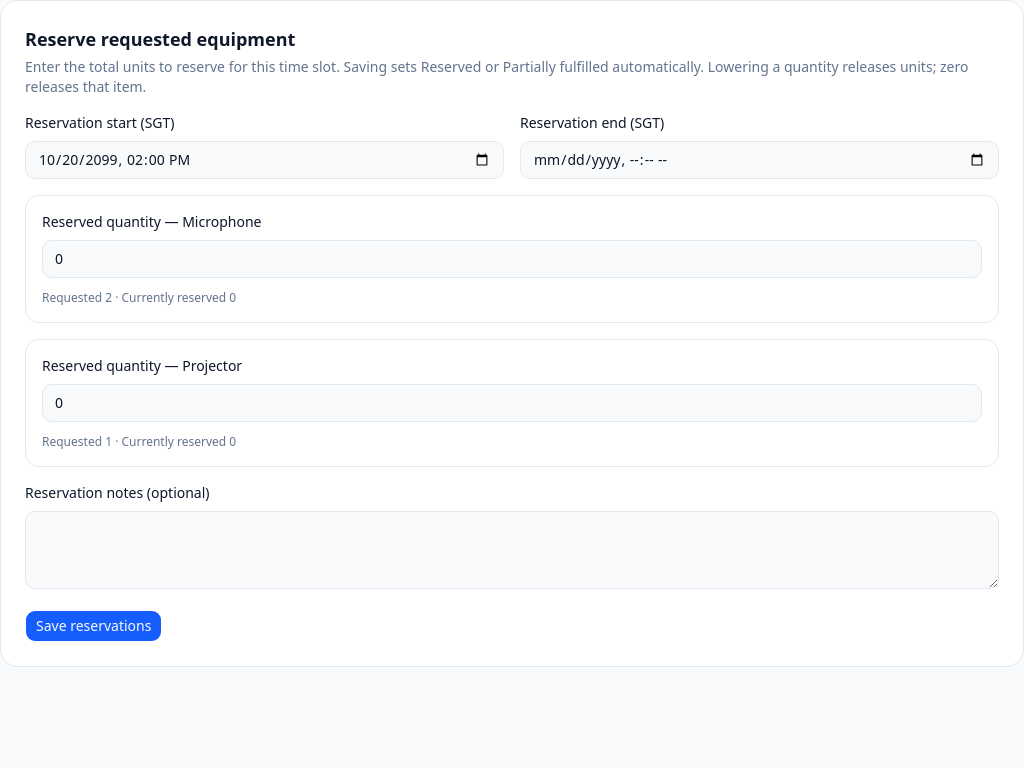
save failure preserves the reservation and correctly requires reload: {"status":400,"fields":{}}
Step 1. Type "2099-10-20T15:00" into the field labelled "Reservation end (SGT)" → (760, 160), box [520,141,999,179]
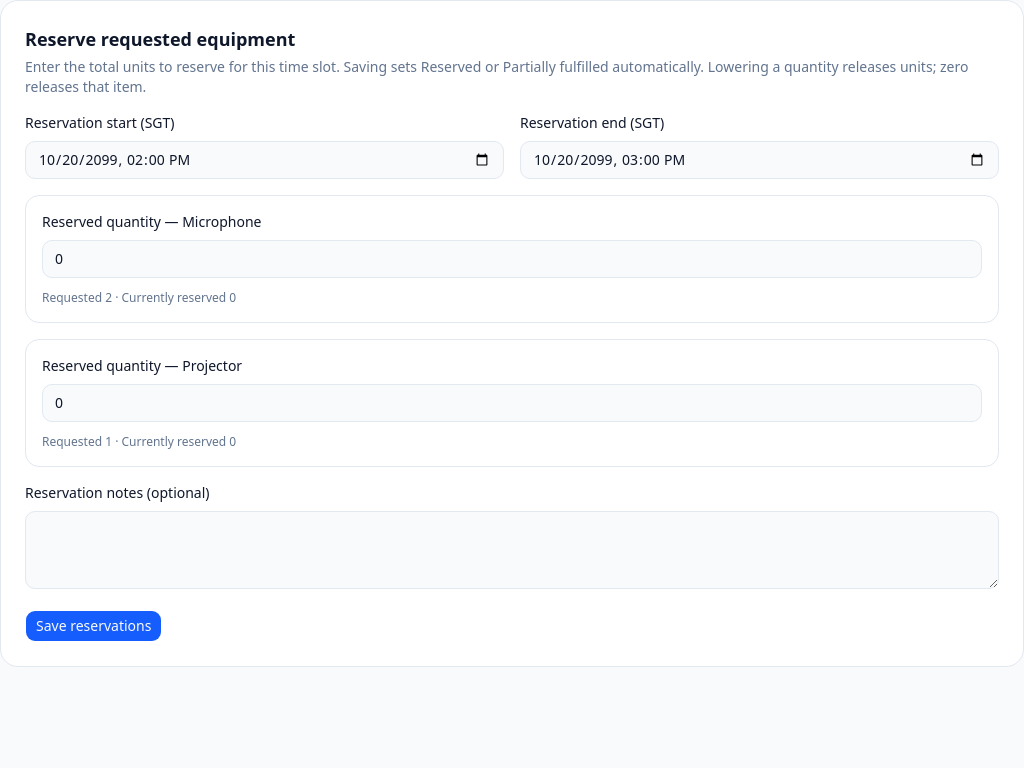
Step 2. Submit the form "Reserve requested equipment"
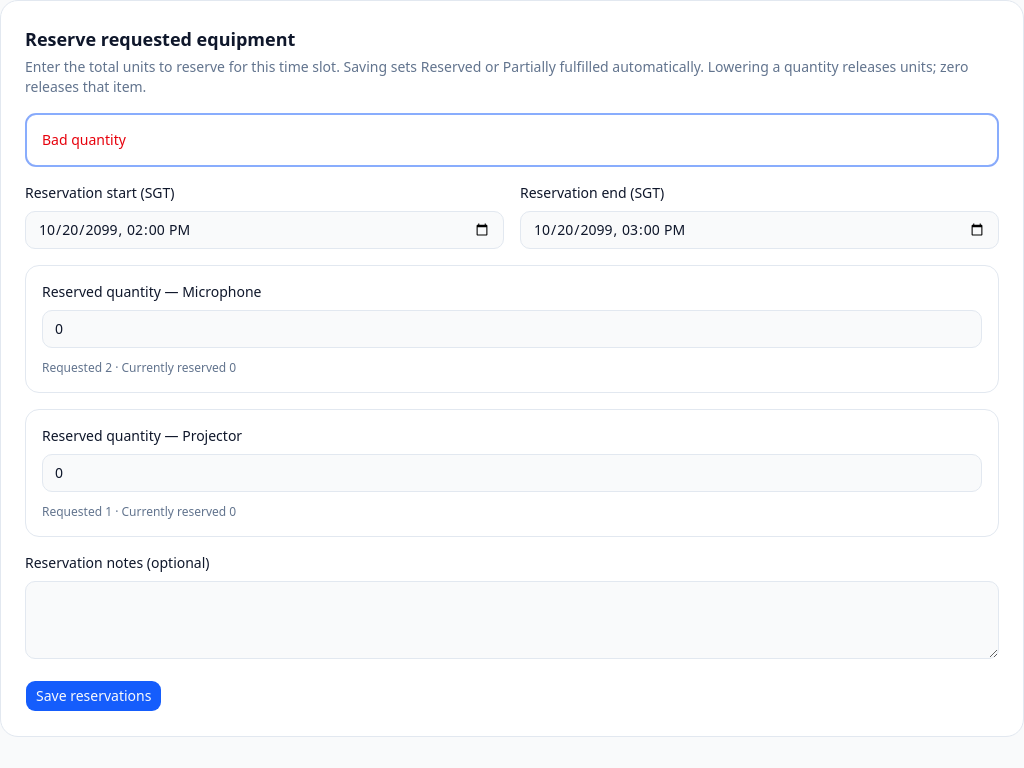
Check: the message reads "Bad quantity", box [42,130,126,149]
